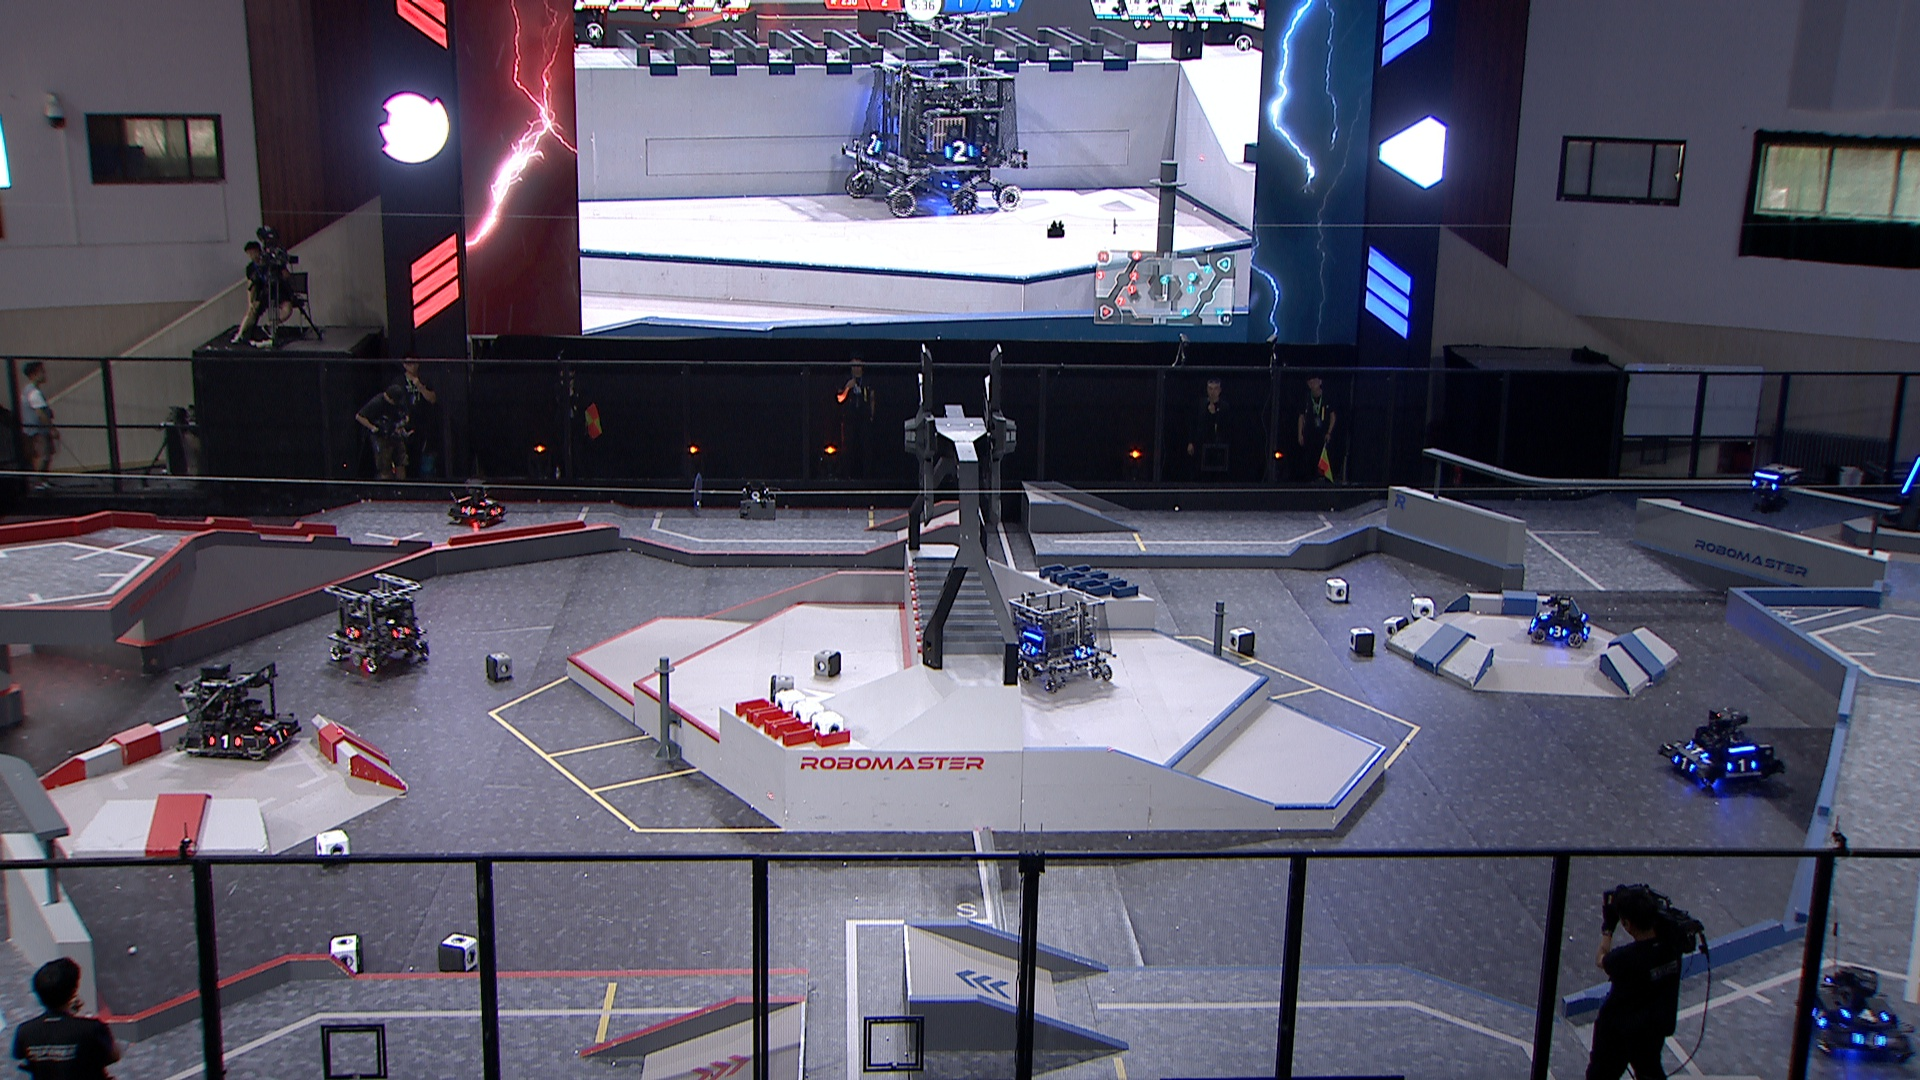armor: (1841, 1004, 1892, 1026), (1899, 456, 1920, 495), (1851, 1031, 1888, 1050), (1722, 756, 1760, 773), (1811, 1002, 1830, 1033), (206, 735, 243, 750), (1673, 754, 1698, 775), (1749, 477, 1780, 493), (1684, 744, 1712, 760), (268, 728, 290, 746), (252, 717, 278, 732), (1547, 622, 1571, 638), (390, 626, 411, 642), (343, 626, 363, 641), (460, 504, 477, 520), (1021, 641, 1038, 657), (1076, 645, 1092, 659), (487, 505, 505, 517), (1536, 611, 1552, 622), (479, 498, 498, 508)
base: (1878, 446, 1920, 535)
car: (171, 659, 301, 764), (1007, 585, 1120, 698), (1797, 964, 1917, 1065), (1658, 707, 1787, 796), (323, 574, 430, 673), (1528, 595, 1594, 650), (448, 480, 506, 529)
ignore: (840, 55, 1031, 219)
watcher: (1749, 465, 1801, 514)
